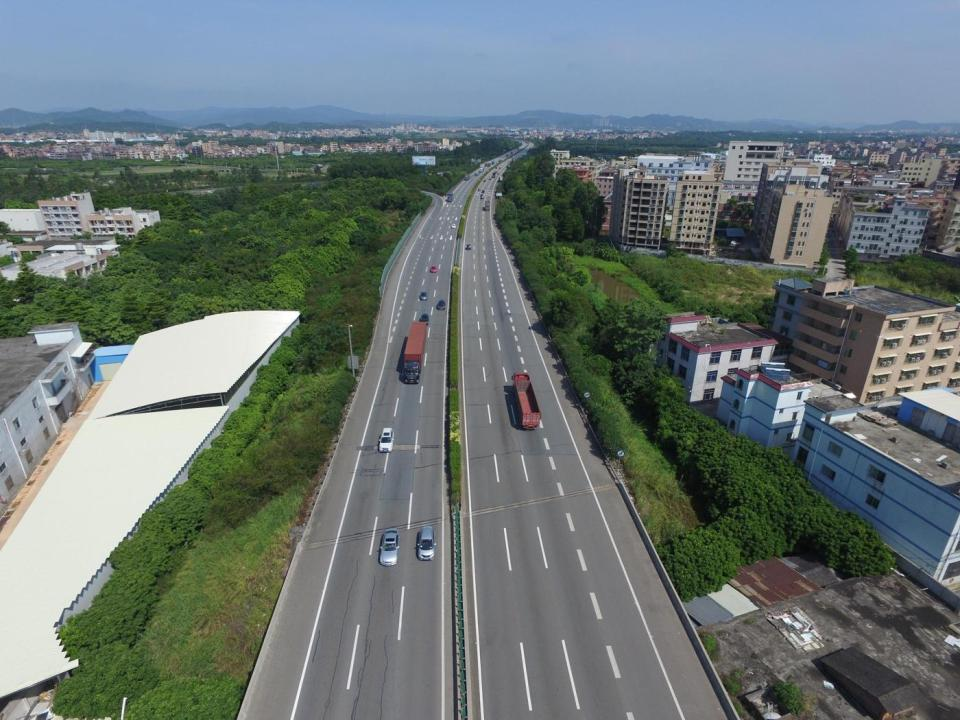car: (378, 527, 400, 566), (417, 525, 436, 560), (378, 428, 394, 452), (420, 314, 428, 326), (437, 299, 445, 309), (419, 292, 428, 300), (730, 241, 741, 246), (430, 265, 436, 273), (728, 238, 737, 243), (466, 244, 471, 249), (482, 206, 485, 212), (488, 176, 492, 180), (480, 194, 483, 199), (452, 224, 455, 228), (482, 190, 486, 193), (498, 159, 502, 162), (498, 168, 502, 170), (492, 160, 494, 164), (478, 189, 481, 191), (484, 179, 486, 182), (495, 167, 497, 169), (511, 152, 513, 154), (507, 154, 508, 156)
van: (510, 371, 543, 429), (404, 322, 426, 383), (446, 193, 454, 201), (485, 201, 490, 210), (465, 172, 470, 180), (492, 172, 496, 178), (475, 170, 478, 176), (484, 164, 488, 167), (488, 163, 490, 168), (481, 167, 483, 172)
